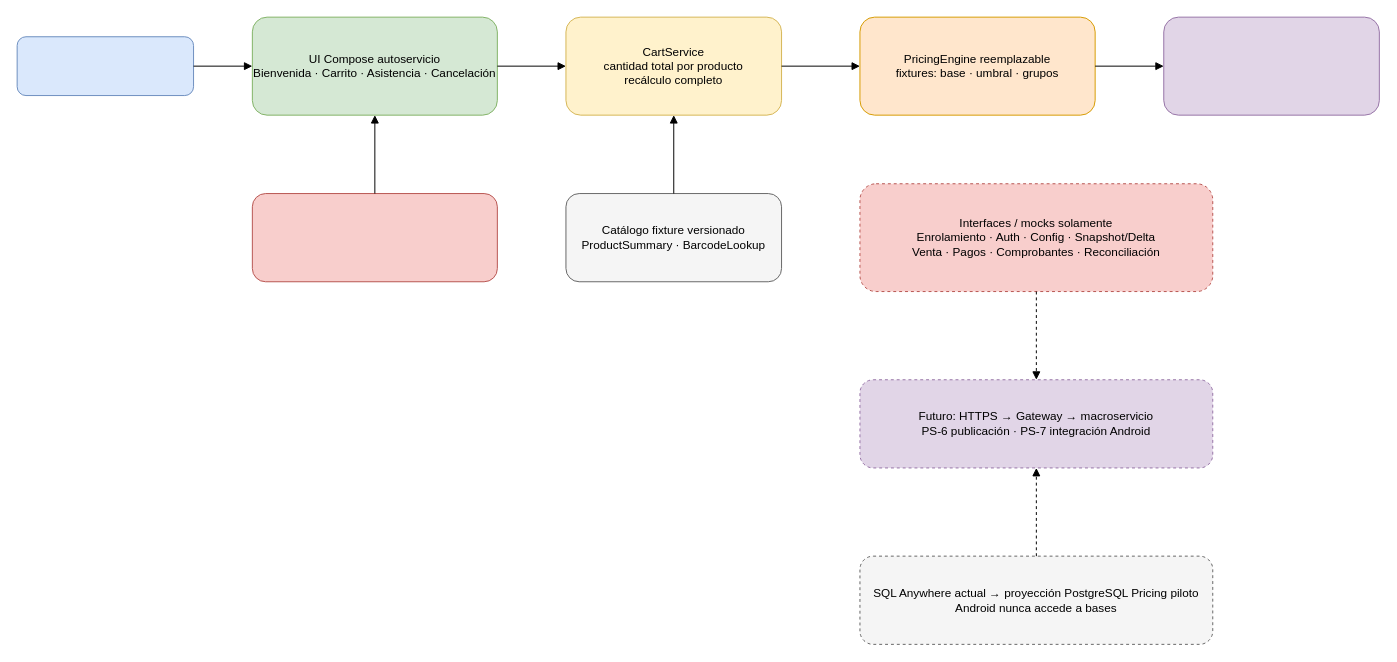
Image size: 1397x662. Some labels were removed from this diagram. The centre of each missing label's shape, as x and y in pixels:
"ConnectivityState + OfflinePolicy deny-by-default" belongs at (x=374, y=237).
"PriceQuote + reglas aplicadas determinista y versionado" belongs at (x=1271, y=65).
"Scanner HID / cantidad" belongs at (x=105, y=66).
